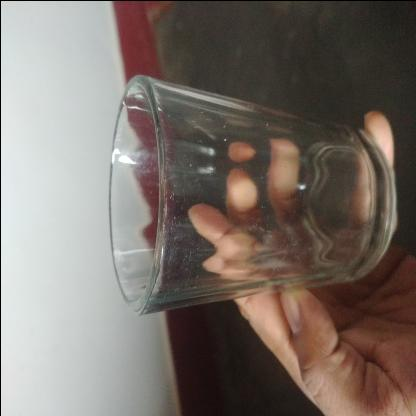cup: (73, 150, 261, 416)
